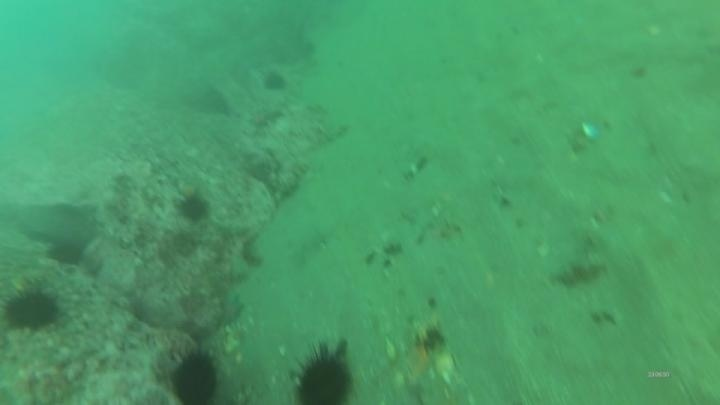echinus: (289, 343, 357, 405), (165, 347, 223, 405), (2, 285, 62, 334), (45, 237, 87, 269), (175, 191, 212, 225), (260, 69, 289, 95)
starfish: (216, 291, 247, 329)
